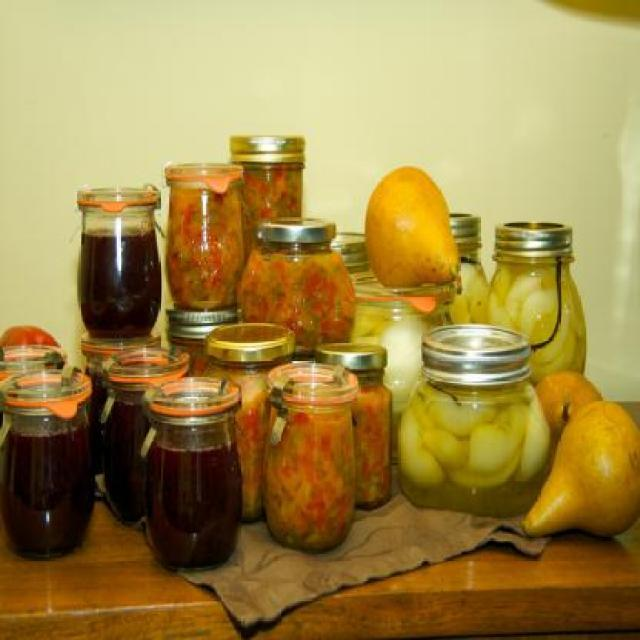Pear: (521, 398, 639, 540), (364, 166, 462, 294), (532, 368, 606, 472)
